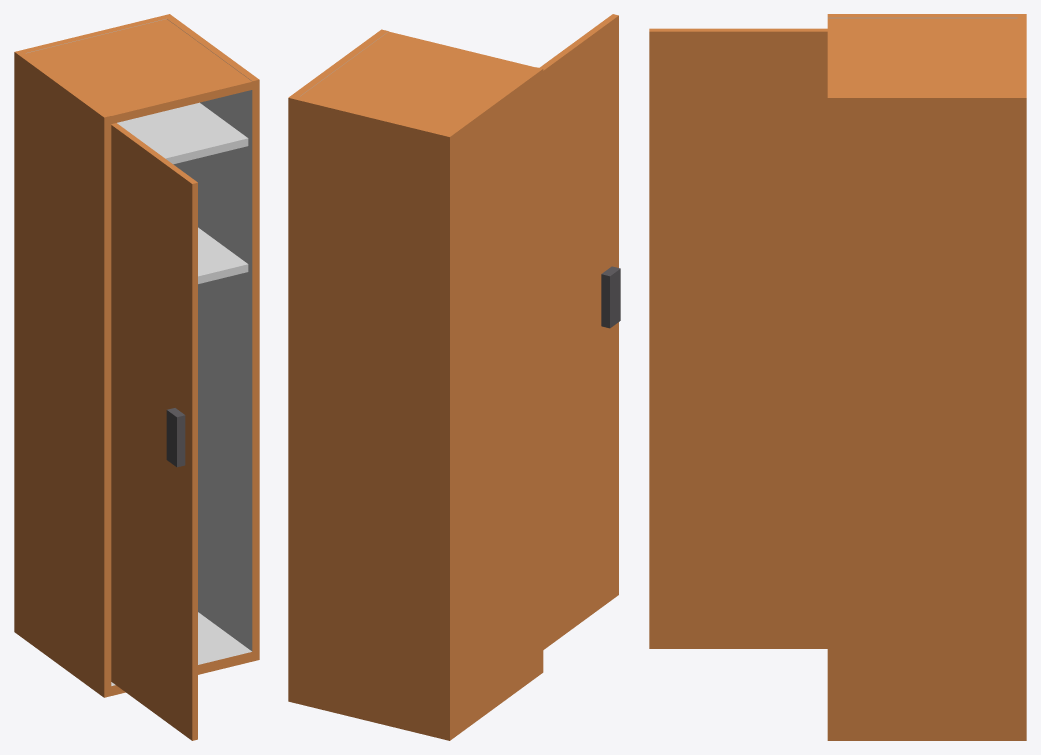
File: Broom_closet_open_wood(1).fbx
The picture shows the model from 3 angles, left to right: view 1: azimuth 30°, elevation 25°; view 2: azimuth 150°, elevation 25°; view 3: azimuth 270°, elevation 25°; orthographic projection. The views are drawn at different scales.
Visible parts, largest first — view 1: Closet.003, Door.003, Shelf 2.003, Shelf 1.003, Handle.003; view 2: Closet.003, Door.003, Handle.003; view 3: Closet.003, Door.003.
Part boxes in pixels (bbox=[...]): Closet.003: bbox=[14, 14, 259, 697]; Door.003: bbox=[111, 123, 197, 740]; Shelf 2.003: bbox=[117, 102, 248, 164]; Shelf 1.003: bbox=[198, 227, 248, 283]; Handle.003: bbox=[166, 408, 185, 467]; Closet.003: bbox=[288, 29, 543, 740]; Door.003: bbox=[539, 14, 618, 649]; Handle.003: bbox=[601, 266, 620, 328]; Closet.003: bbox=[827, 14, 1026, 740]; Door.003: bbox=[649, 28, 827, 648].
Bounding box in the file's own units: 2.21 × 7.85 × 4.17.
